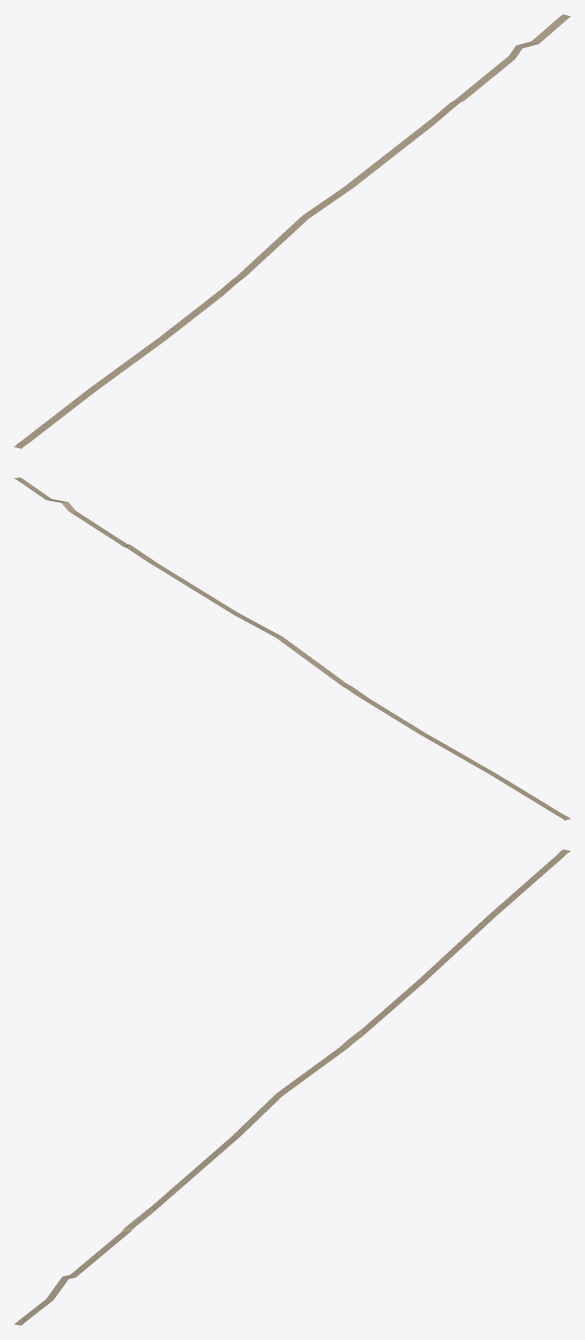
The model's file is farm_26_12_track.glb.
3 views of the same model, one above another, from view 1: azimuth 90°, elevation 25°; view 2: azimuth 150°, elevation 25°; view 3: azimuth 270°, elevation 25° (orthographic). The views are drawn at different scales.
Visible parts, largest first — view 1: geometry_0; view 2: geometry_0; view 3: geometry_0.
Part boxes in pixels (<box>): geometry_0: <box>14,14,570,448</box>; geometry_0: <box>14,477,570,820</box>; geometry_0: <box>14,849,570,1325</box>.
Bounding box in the file's own units: 410 × 9.66 × 212.
